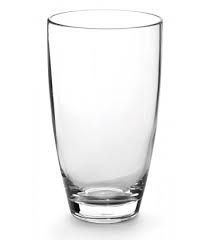glass: (42, 5, 168, 230)
